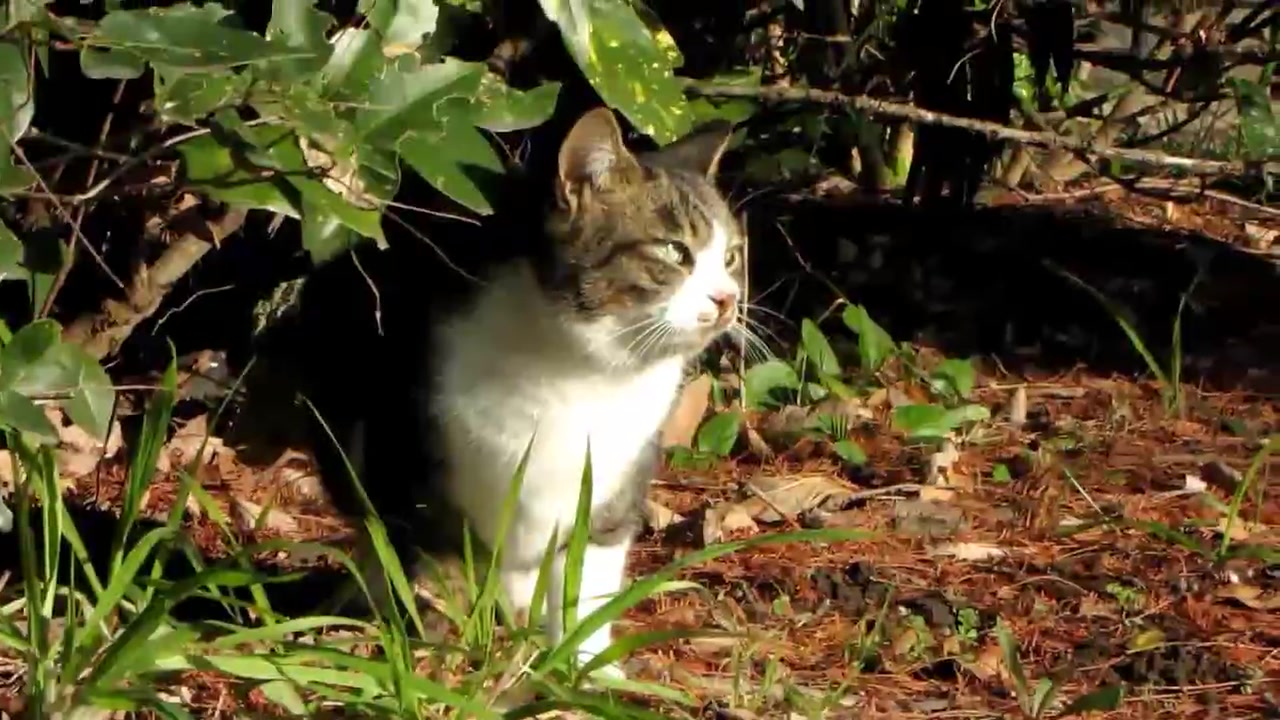cat: (303, 109, 751, 672)
